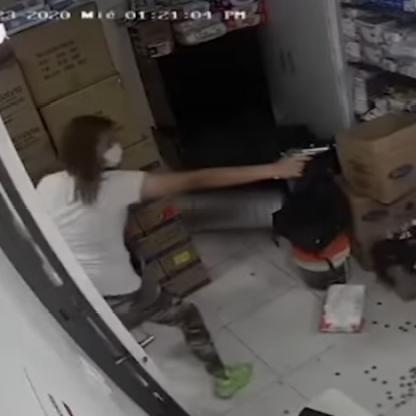criminal: (35, 114, 332, 400)
weapon: (278, 142, 332, 179)
